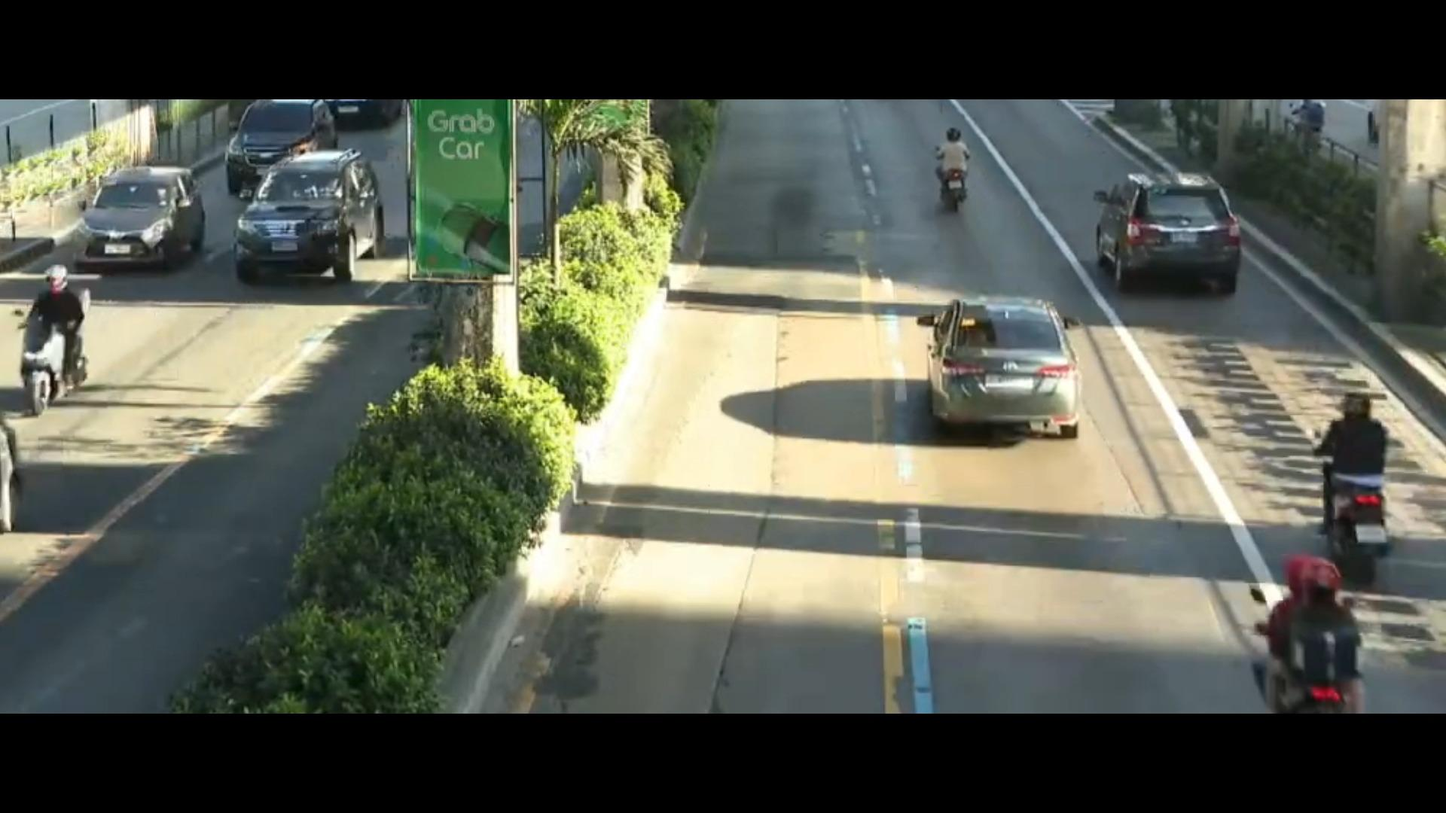Motorcycle: (1284, 379, 1432, 575), (1232, 540, 1384, 700), (0, 271, 95, 407), (905, 121, 981, 217)
SUV: (1089, 149, 1259, 321), (236, 143, 388, 297), (226, 96, 338, 179)
Sedan: (908, 269, 1093, 467), (78, 149, 215, 267)
